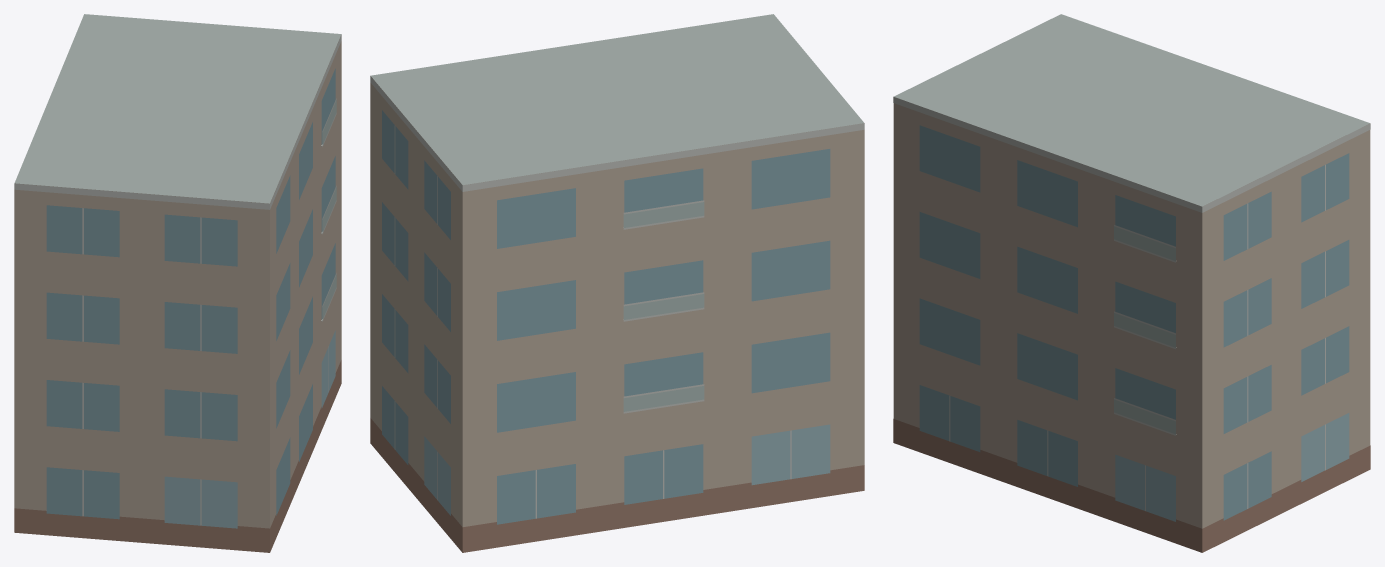
Rendered from survey-upis-32893364.glb.
3 views of the same model, side by side, from view 1: azimuth 30°, elevation 25°; view 2: azimuth 150°, elevation 25°; view 3: azimuth 270°, elevation 25° (orthographic). The views are drawn at different scales.
Visible parts, largest first — view 1: survey-upis-32893364.tmp; view 2: survey-upis-32893364.tmp; view 3: survey-upis-32893364.tmp.
Boxes of the visible parts, x1=… form: survey-upis-32893364.tmp: x1=14, y1=14, x2=341, y2=552; survey-upis-32893364.tmp: x1=370, y1=14, x2=864, y2=552; survey-upis-32893364.tmp: x1=893, y1=14, x2=1370, y2=552.
Size of the model in its own units: 16 by 13.4 by 16.74.
